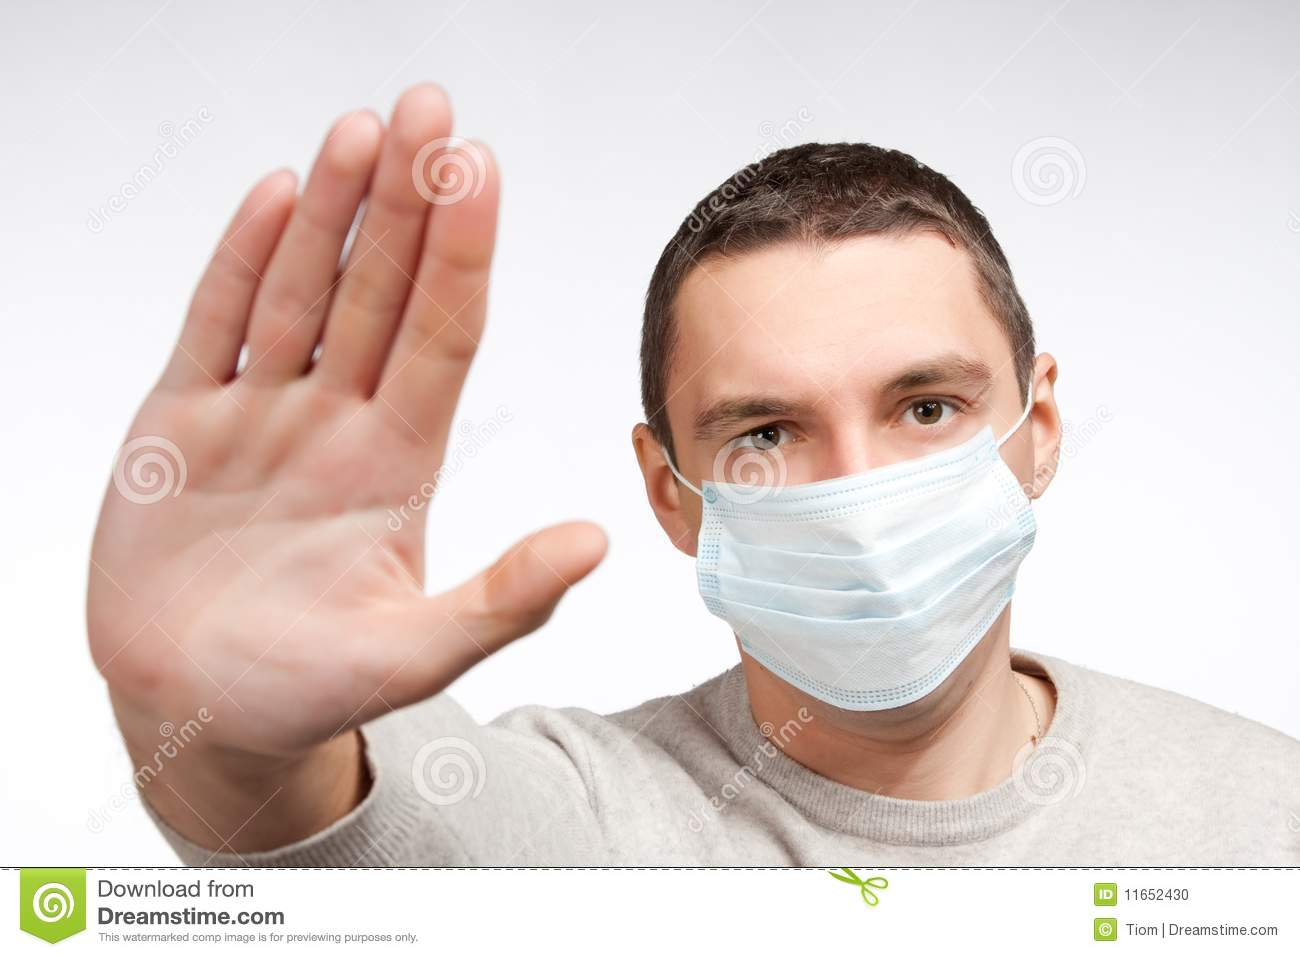mask: (699, 438, 1039, 713)
